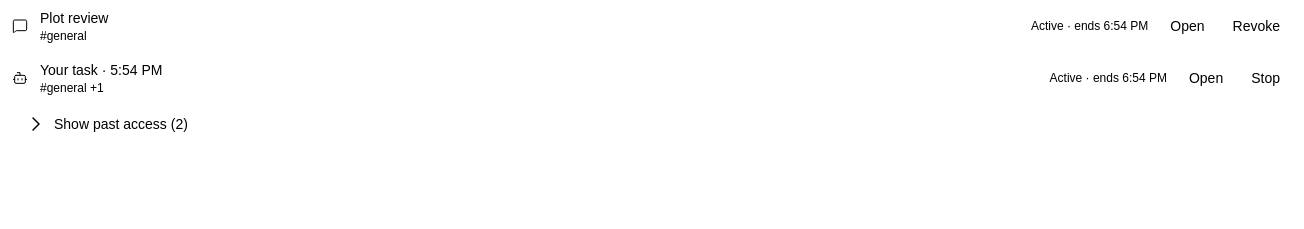
Test: the Access tab › keeps a row’s badge and actions together in one end group that can wrap below the text
Expected: the element with class "crew-access-row-text" shows "Plot review", [40,10,108,26]
Expected: the element with class "crew-access-row-text" shows "#general", [40,29,87,43]
# While a revoke is confirmed inline, the badge stays in the end group and the actions leave.
Click the button with aria-label "Revoke access for Plot review" at [1256, 26], box [1220,16,1292,36]
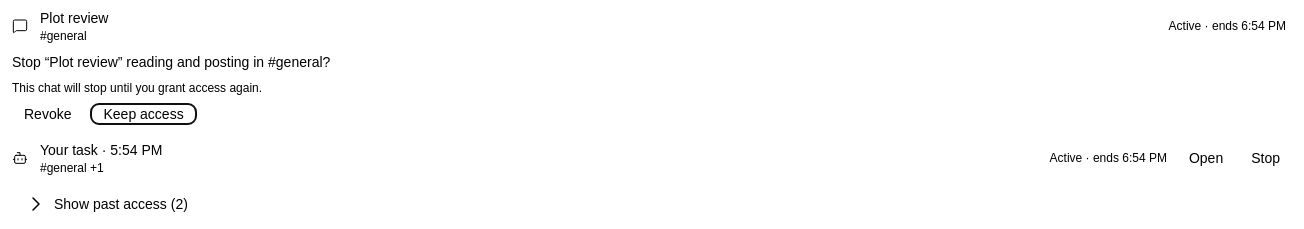
Result: the text "Open Revoke" is gone
